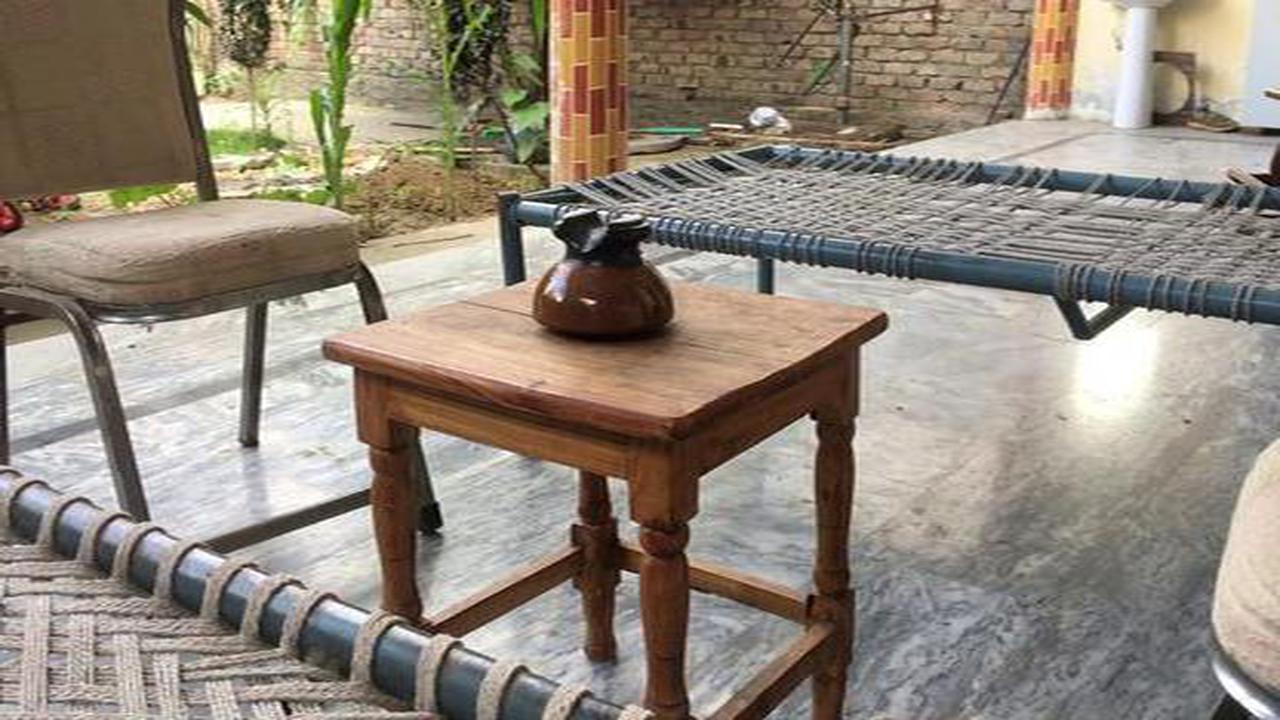insulator_pin: (499, 189, 690, 352)
